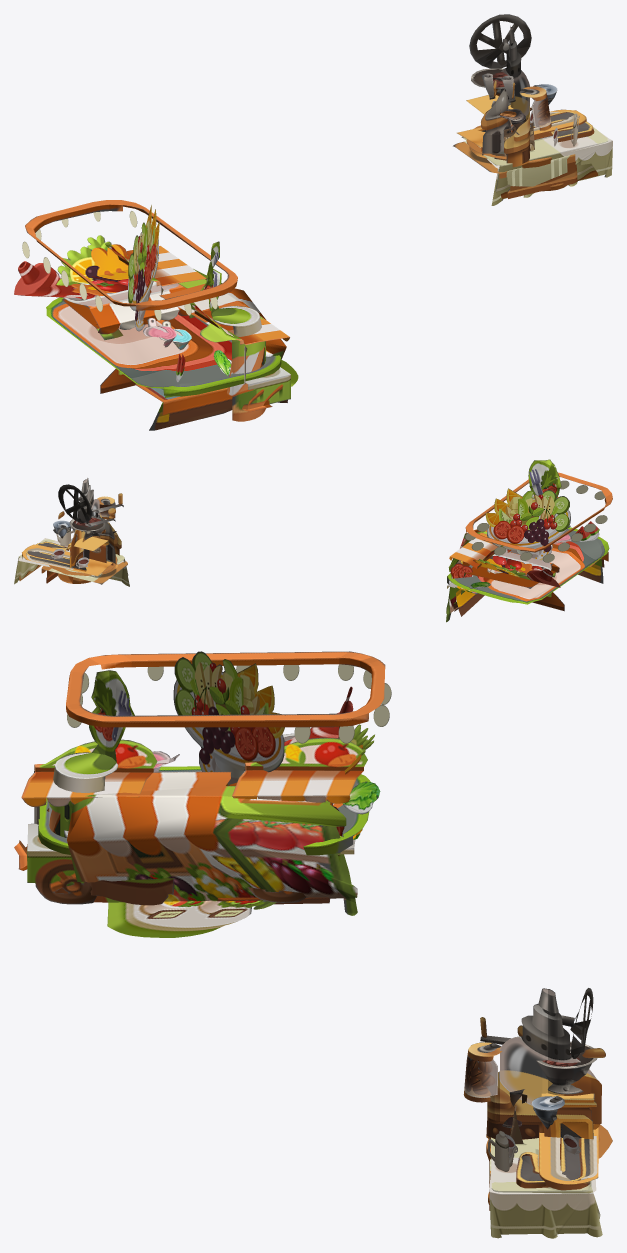
The model's file is tanwei4.fbx.
3 views of the same model, one above another, from view 1: azimuth 30°, elevation 25°; view 2: azimuth 150°, elevation 25°; view 3: azimuth 270°, elevation 25° (orthographic). The views are drawn at different scales.
Visible parts, largest first — view 1: stall_20144, stall_20143, stall_20064, stall_20142, stall_20063, stall_20062, stall_20141, stall_20061; view 2: stall_20144, stall_20064, stall_20063, stall_20143, stall_20062, stall_20142, stall_20141, stall_20061; view 3: stall_20142, stall_20144, stall_20064, stall_20141, stall_20063, stall_20143, stall_20061.
Part boxes in pixels (<box>): stall_20144: <box>22,200,281,430</box>; stall_20143: <box>14,235,232,423</box>; stall_20064: <box>469,14,612,205</box>; stall_20142: <box>159,241,298,421</box>; stall_20063: <box>457,68,608,198</box>; stall_20062: <box>453,75,577,198</box>; stall_20141: <box>105,243,290,411</box>; stall_20061: <box>466,107,567,191</box>; stall_20144: <box>447,472,612,616</box>; stall_20064: <box>14,478,129,586</box>; stall_20063: <box>16,508,128,580</box>; stall_20143: <box>454,551,608,611</box>; stall_20062: <box>41,493,127,584</box>; stall_20142: <box>446,459,567,622</box>; stall_20141: <box>447,496,558,608</box>; stall_20061: <box>49,529,117,583</box>; stall_20142: <box>47,670,357,937</box>; stall_20144: <box>38,651,391,855</box>; stall_20064: <box>463,988,605,1238</box>; stall_20141: <box>14,737,367,904</box>; stall_20063: <box>488,1025,600,1218</box>; stall_20143: <box>90,686,374,905</box>; stall_20061: <box>486,1089,612,1204</box>.
Size of the model in its own units: 14.41 by 3.67 by 8.74.
